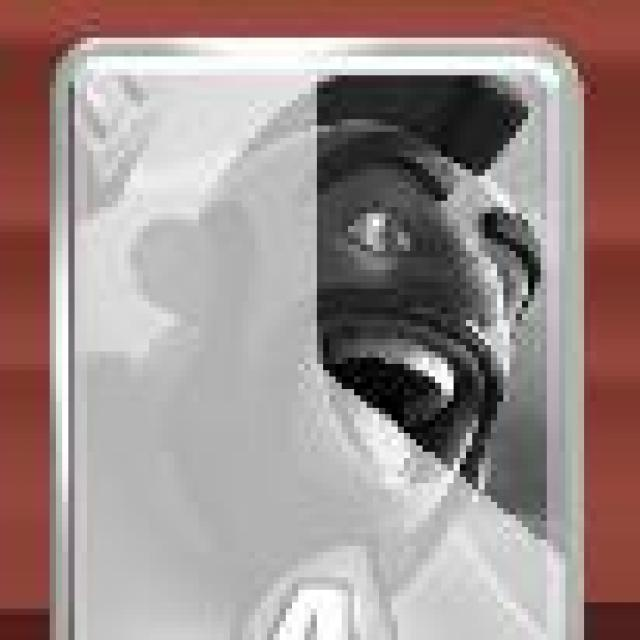Hog_Rider: (51, 36, 586, 640)
